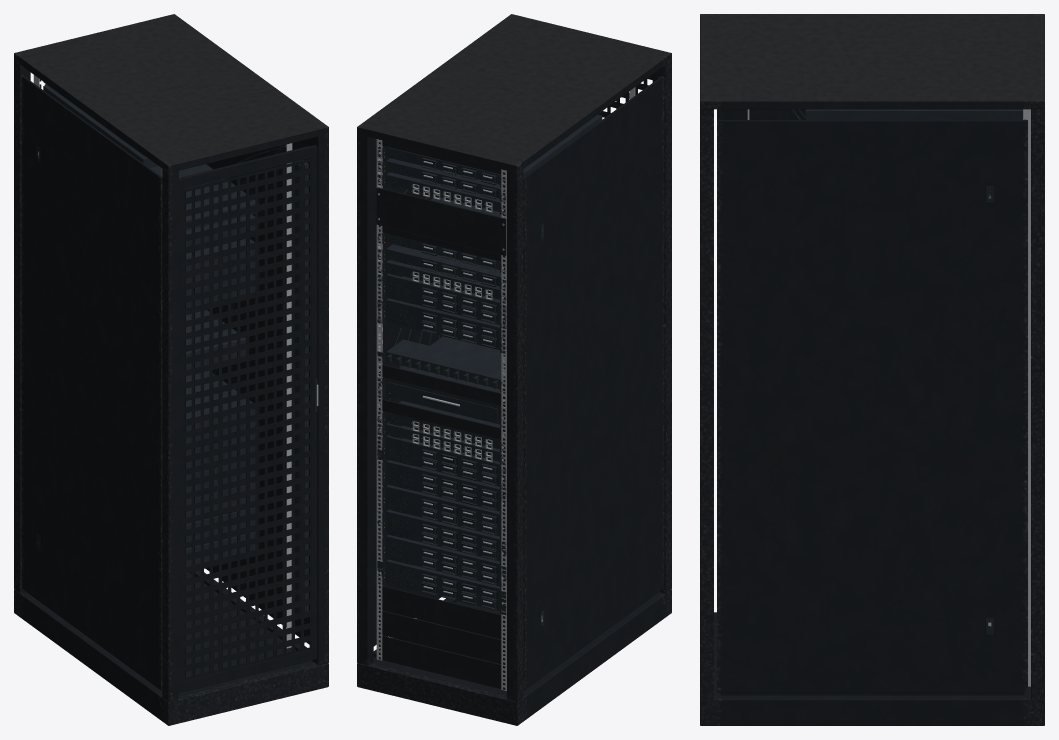
Rendered from server_rack_42u.glb.
The picture shows the model from 3 angles, left to right: view 1: azimuth 30°, elevation 25°; view 2: azimuth 150°, elevation 25°; view 3: azimuth 270°, elevation 25°; orthographic projection. The views are drawn at different scales.
Parts seen in each view (by area): view 1: cabinet; view 2: cabinet; view 3: cabinet.
Boxes of the visible parts, box(x1,y1,x2,y2) form: cabinet: box(14, 14, 328, 725); cabinet: box(357, 14, 671, 725); cabinet: box(700, 14, 1044, 725).
Size of the model in its own units: 0.6 by 2 by 1.
Materials: 5 (5 with a texture image).
